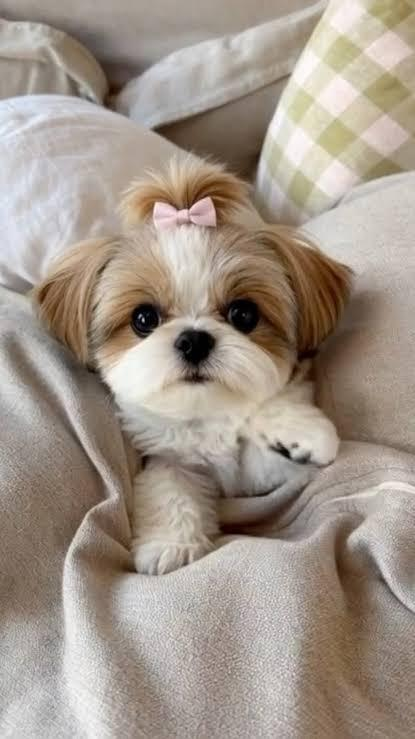puppy-dog: (37, 161, 353, 576)
